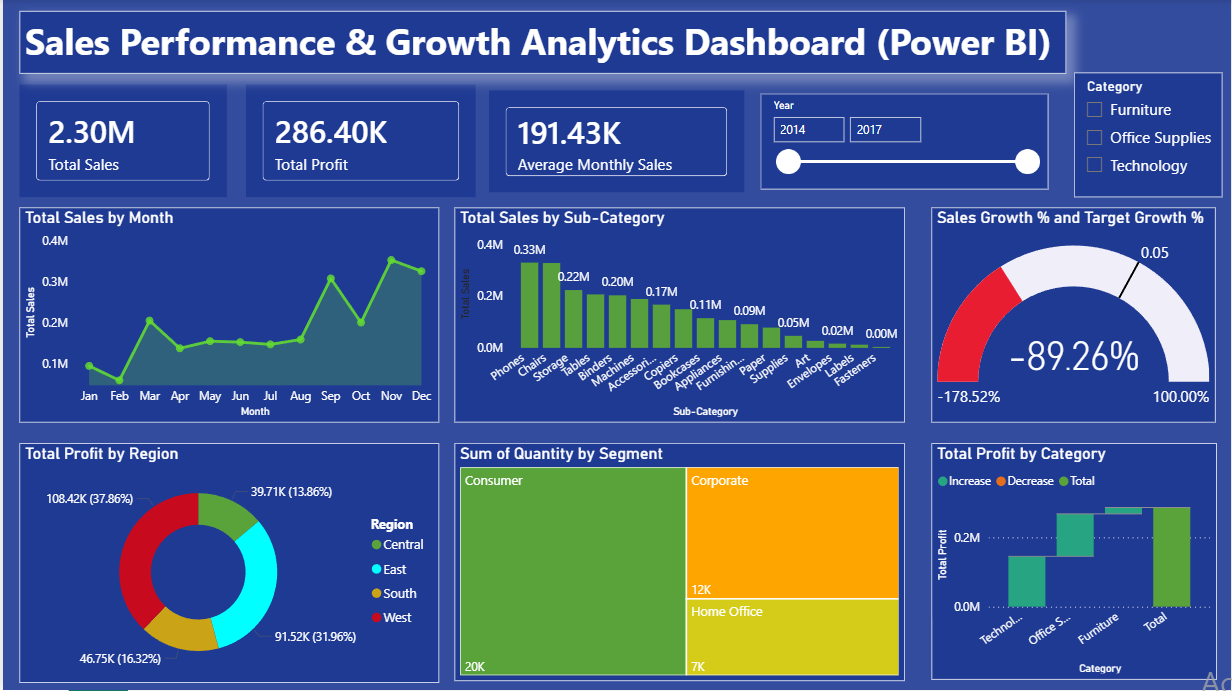

This screenshot's page, from the dashboard's own definition file:
{"tool":"powerbi","page":{"name":"Page 1","canvas":[1280,720],"ordinal":0},"visuals":[{"type":"slicer","fields":{"Values":["sample_-_superstore.Year"]},"box":[789.3,98.5,300.1,100],"z":0},{"type":"areaChart","fields":{"Category":["sample_-_superstore.MonthYear","sample_-_superstore.Year"],"Y":["sample_-_superstore.Total Sales"]},"box":[17.5,217.9,437.4,224.3],"z":1000},{"type":"columnChart","fields":{"Category":["sample_-_superstore.Sub-Category"],"Y":["sample_-_superstore.Total Sales"]},"box":[470.8,217.9,469.2,224.3],"z":2000},{"type":"donutChart","fields":{"Series":["sample_-_superstore.Region"],"Y":["sample_-_superstore.Total Profit"]},"box":[17.5,462.9,437.4,249.7],"z":3000},{"type":"treemap","fields":{"Details":["sample_-_superstore.Segment"],"Values":["Sum(sample_-_superstore.Quantity)"]},"box":[470.8,462.9,469.2,248.1],"z":4000},{"type":"gauge","fields":{"Y":["sample_-_superstore.Sales Growth %"],"TargetValue":["sample_-_superstore.Target Growth %"]},"box":[967.1,217.9,295.9,224.3],"z":5000},{"type":"waterfallChart","fields":{"Category":["sample_-_superstore.Category"],"Y":["sample_-_superstore.Total Profit"]},"box":[967.1,462.9,297.4,246.5],"z":6000},{"type":"cardVisual","fields":{"Data":["sample_-_superstore.Total Sales"]},"box":[17.2,89.1,215.7,117.2],"z":7000},{"type":"cardVisual","fields":{"Data":["sample_-_superstore.Total Profit"]},"box":[253.2,89.1,239.1,117.2],"z":8000},{"type":"textbox","box":[17.2,12.5,1091,65.6],"z":9000},{"type":"cardVisual","fields":{"Data":["sample_-_superstore.Average Monthly Sales"]},"box":[506.4,95.3,265.7,106.3],"z":10000},{"type":"slicer","fields":{"Values":["sample_-_superstore.Category"]},"box":[1116,76.6,154.7,129.7],"z":11000}]}

Visuals, with their boxes in screenshot pixels (x1, y1, x2, y2), scaled from the page's 1280x720 canvas onto the 1232x691 screenshot:
slicer - sample_-_superstore.Year: <region>760, 95, 1049, 191</region>
areaChart - sample_-_superstore.MonthYear x sample_-_superstore.Year: <region>17, 209, 438, 424</region>
columnChart - sample_-_superstore.Sub-Category x sample_-_superstore.Total Sales: <region>453, 209, 905, 424</region>
donutChart - sample_-_superstore.Region x sample_-_superstore.Total Profit: <region>17, 444, 438, 684</region>
treemap - sample_-_superstore.Segment x Sum(sample_-_superstore.Quantity): <region>453, 444, 905, 682</region>
gauge - sample_-_superstore.Sales Growth % x sample_-_superstore.Target Growth %: <region>931, 209, 1216, 424</region>
waterfallChart - sample_-_superstore.Category x sample_-_superstore.Total Profit: <region>931, 444, 1217, 681</region>
cardVisual - sample_-_superstore.Total Sales: <region>17, 86, 224, 198</region>
cardVisual - sample_-_superstore.Total Profit: <region>244, 86, 474, 198</region>
textbox: <region>17, 12, 1067, 75</region>
cardVisual - sample_-_superstore.Average Monthly Sales: <region>487, 91, 743, 193</region>
slicer - sample_-_superstore.Category: <region>1074, 74, 1223, 198</region>
